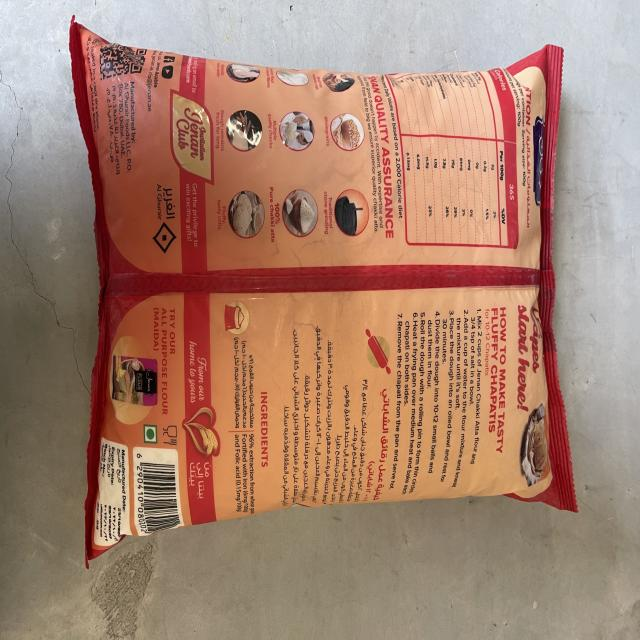object_name: (75, 38, 564, 513)
